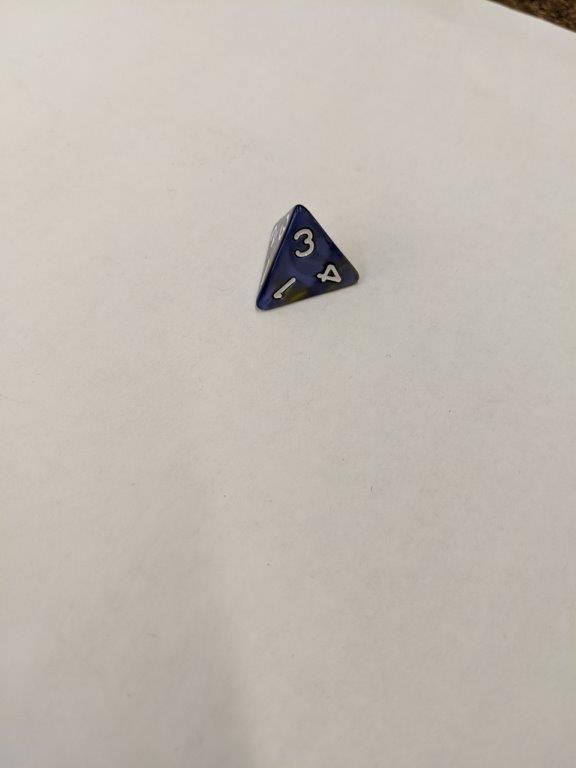d4-3: (253, 200, 362, 318)
